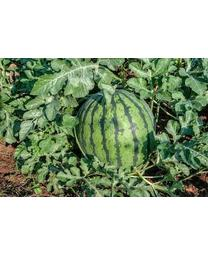watermelon: (72, 88, 155, 177)
